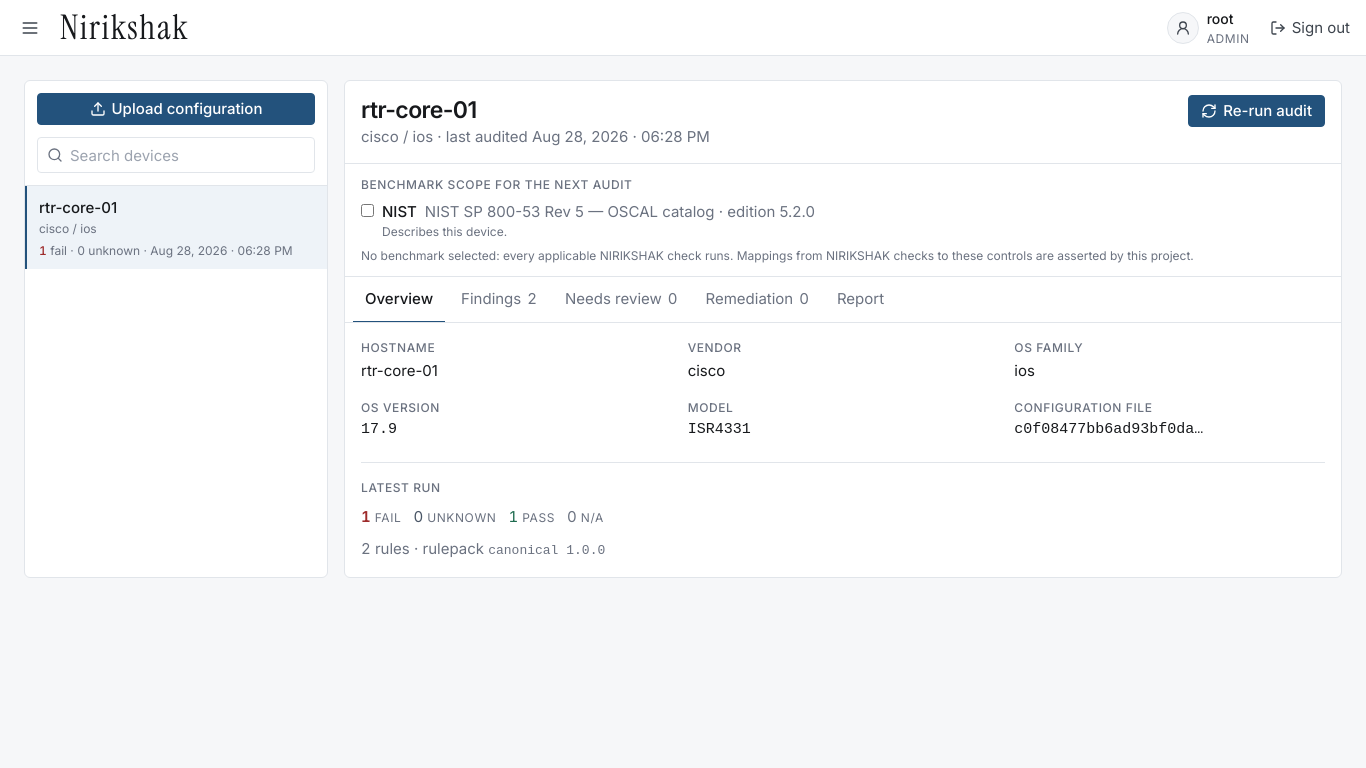
Test case: the report gate › opens the report once nothing is outstanding
Click the tab "Report". click: (860, 300)
box: [825, 277, 896, 323]
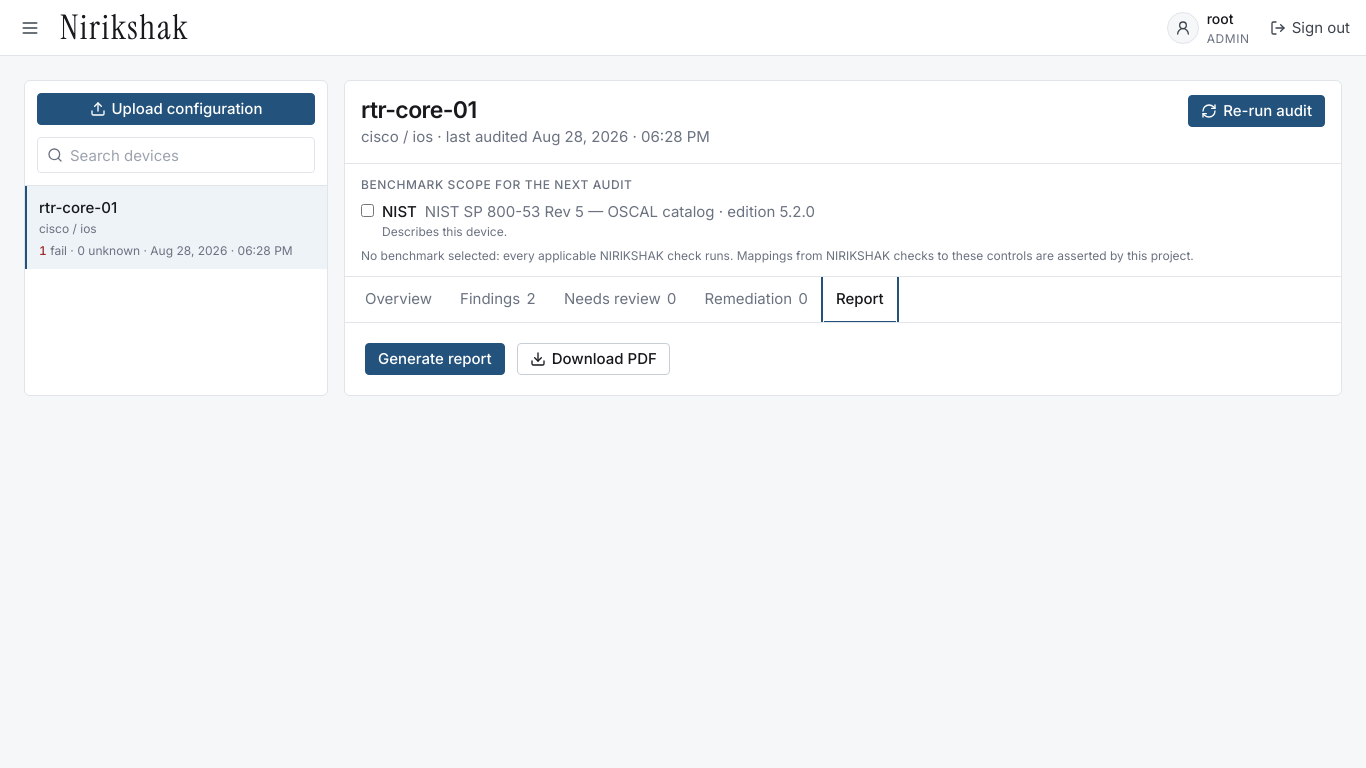
Expected: the button "Generate report" is shown, [365, 343, 505, 375]
